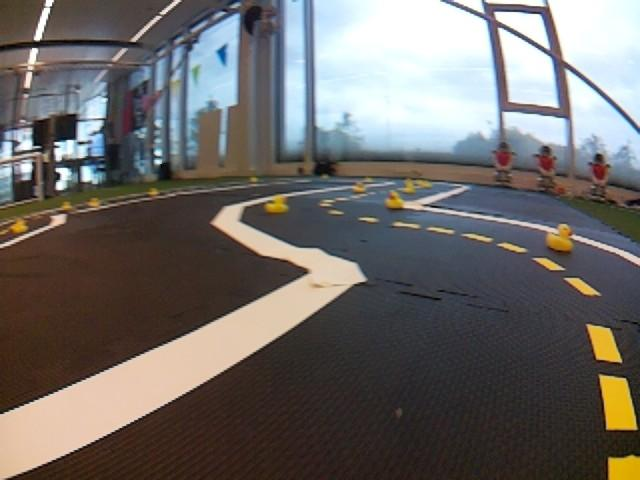Duckies: (546, 223, 573, 252), (265, 197, 288, 214), (384, 191, 404, 209), (10, 220, 27, 233), (353, 181, 366, 193), (403, 182, 416, 194), (86, 197, 99, 207), (62, 201, 73, 209), (421, 181, 432, 188), (149, 188, 159, 195), (364, 177, 374, 183), (249, 176, 258, 181), (321, 174, 328, 179)
